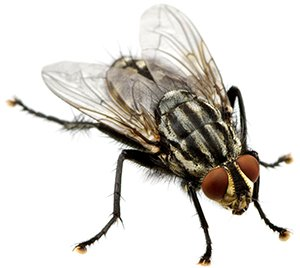fly: (5, 5, 295, 266)
